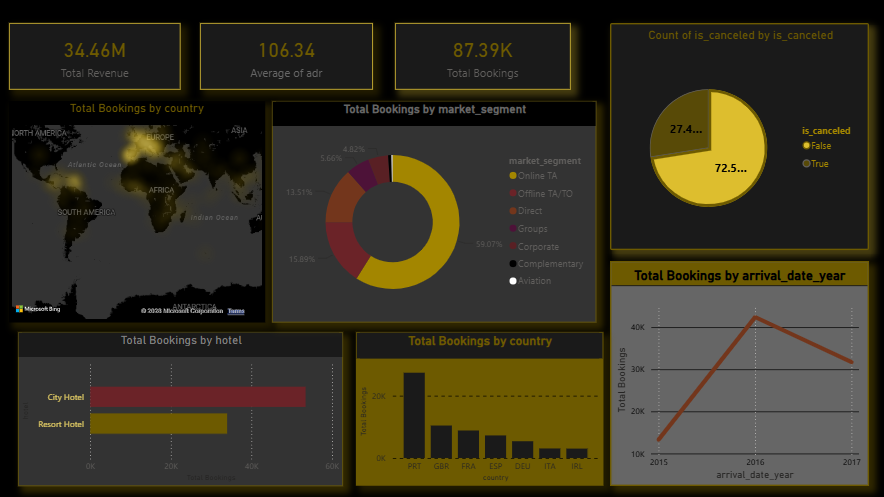

The dashboard page shown, as its layout file describes it:
{"tool":"powerbi","page":{"name":"Page 1","canvas":[1280,720],"ordinal":0},"visuals":[{"type":"card","fields":{"Values":["hotel_booking_cleaned.Total Revenue"]},"box":[18.6,32.9,247.1,95.7],"z":0},{"type":"map","fields":{"Category":["hotel_booking_cleaned.country"],"Size":["hotel_booking_cleaned.Total Bookings"]},"box":[18.6,145.7,368.6,318.6],"z":1},{"type":"card","fields":{"Values":["Avg(hotel_booking_cleaned.adr)"]},"box":[294.3,32.9,248.6,95.7],"z":2},{"type":"card","fields":{"Values":["hotel_booking_cleaned.Total Bookings"]},"box":[574.3,32.9,252.9,95.7],"z":3},{"type":"pieChart","fields":{"Category":["hotel_booking_cleaned.is_canceled"],"Y":["CountNonNull(hotel_booking_cleaned.is_canceled)"]},"box":[884.3,32.9,372.9,327.1],"z":4},{"type":"lineChart","fields":{"Y":["hotel_booking_cleaned.Total Bookings"],"Category":["hotel_booking_cleaned.arrival_date_year"]},"box":[884.3,375.7,372.9,324.3],"z":5},{"type":"clusteredBarChart","fields":{"Y":["hotel_booking_cleaned.Total Bookings"],"Category":["hotel_booking_cleaned.hotel"]},"box":[31.7,478.3,468.3,221.7],"z":6},{"type":"donutChart","fields":{"Category":["hotel_booking_cleaned.market_segment"],"Y":["hotel_booking_cleaned.Total Bookings"]},"box":[397.1,145.7,467.1,318.6],"z":7},{"type":"clusteredColumnChart","fields":{"Category":["hotel_booking_cleaned.country"],"Y":["hotel_booking_cleaned.Total Bookings"]},"box":[518.6,478.6,355.7,221.4],"z":8}]}

Visuals, with their boxes in screenshot pixels (x1, y1, x2, y2), scaled from the page's 1280x720 canvas onto the 884x497 screenshot:
card - hotel_booking_cleaned.Total Revenue: BBox(13, 23, 183, 89)
map - hotel_booking_cleaned.country x hotel_booking_cleaned.Total Bookings: BBox(13, 101, 267, 320)
card - Avg(hotel_booking_cleaned.adr): BBox(203, 23, 375, 89)
card - hotel_booking_cleaned.Total Bookings: BBox(397, 23, 571, 89)
pieChart - hotel_booking_cleaned.is_canceled x CountNonNull(hotel_booking_cleaned.is_canceled): BBox(611, 23, 868, 248)
lineChart - hotel_booking_cleaned.Total Bookings x hotel_booking_cleaned.arrival_date_year: BBox(611, 259, 868, 483)
clusteredBarChart - hotel_booking_cleaned.Total Bookings x hotel_booking_cleaned.hotel: BBox(22, 330, 345, 483)
donutChart - hotel_booking_cleaned.market_segment x hotel_booking_cleaned.Total Bookings: BBox(274, 101, 597, 320)
clusteredColumnChart - hotel_booking_cleaned.country x hotel_booking_cleaned.Total Bookings: BBox(358, 330, 604, 483)
